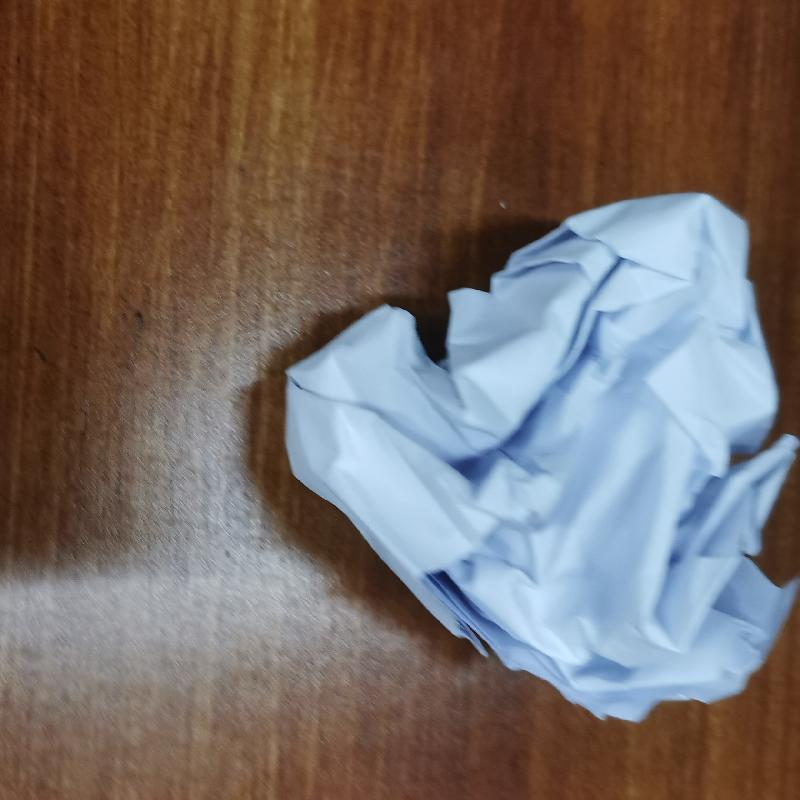spitball: (280, 186, 799, 726)
